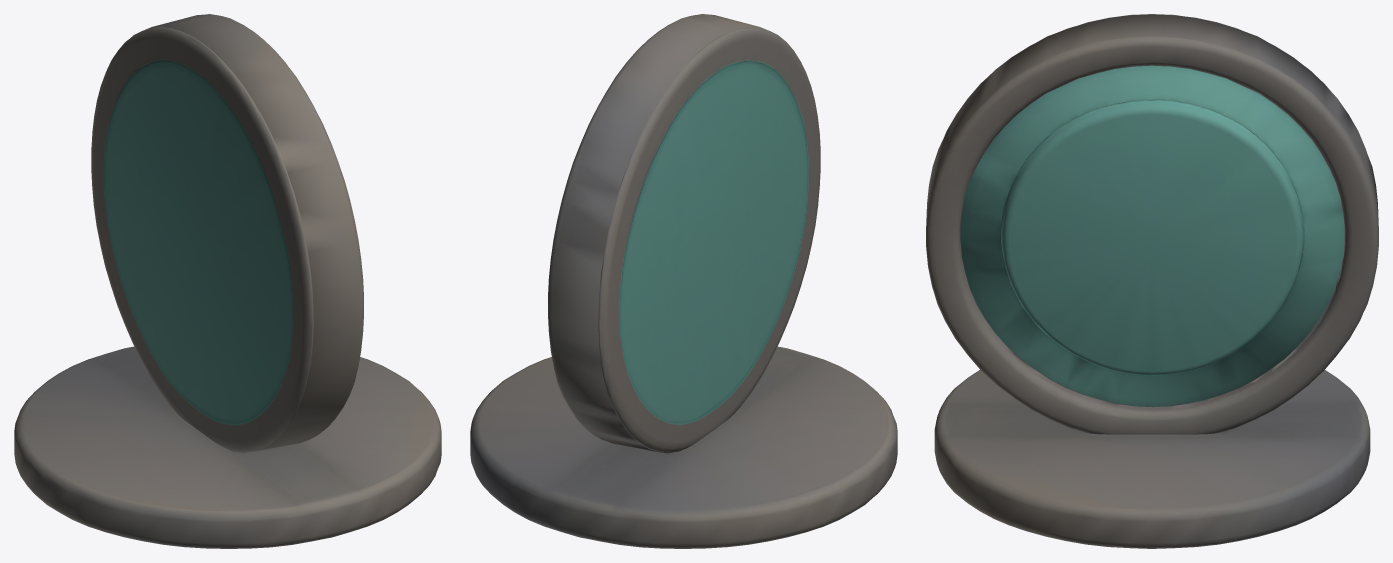
Rendered from icon-coin.glb.
3 views of the same model, side by side, from view 1: azimuth 30°, elevation 25°; view 2: azimuth 150°, elevation 25°; view 3: azimuth 270°, elevation 25° (orthographic). The views are drawn at different scales.
Parts seen in each view (by area): view 1: tripo_node_kodyurd-model-34____________________; view 2: tripo_node_kodyurd-model-34____________________; view 3: tripo_node_kodyurd-model-34____________________.
Part boxes in pixels (x1=…): tripo_node_kodyurd-model-34____________________: x1=14, y1=14, x2=441, y2=548; tripo_node_kodyurd-model-34____________________: x1=470, y1=14, x2=897, y2=548; tripo_node_kodyurd-model-34____________________: x1=926, y1=14, x2=1378, y2=548.
Bounding box in the file's own units: 0.9082 × 0.998 × 0.9434.
Materials: 1 (1 with a texture image).
